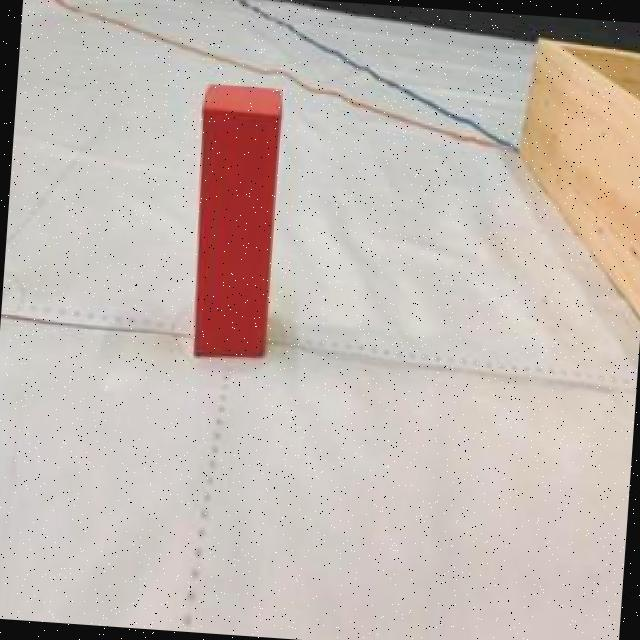redbox: (184, 82, 283, 359)
